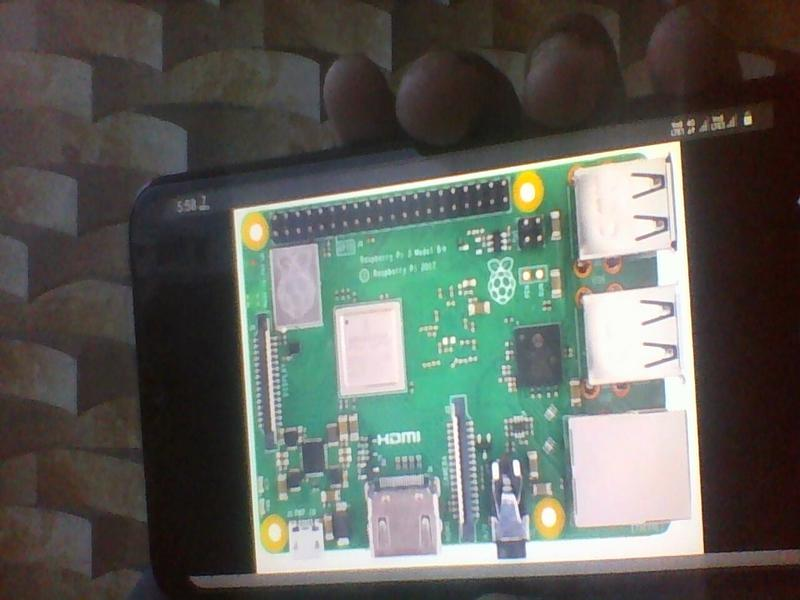aud: (487, 450, 532, 565)
eth: (566, 411, 693, 525)
usb: (569, 157, 680, 258), (580, 284, 687, 388)
